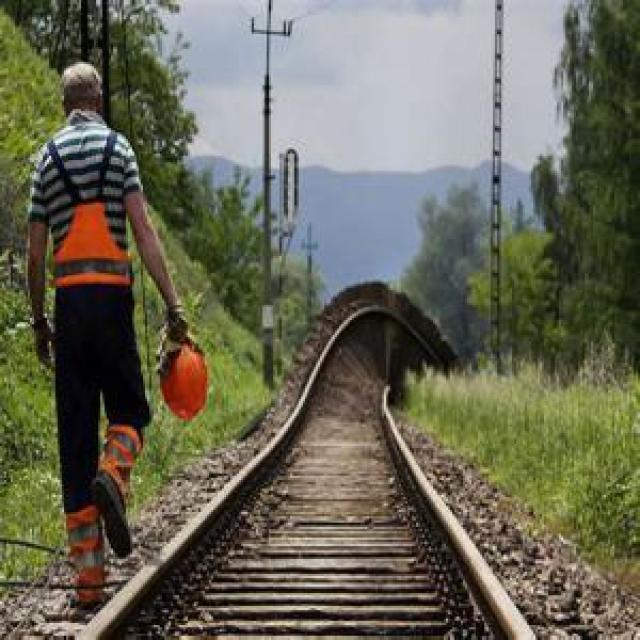rail: (42, 289, 555, 640)
